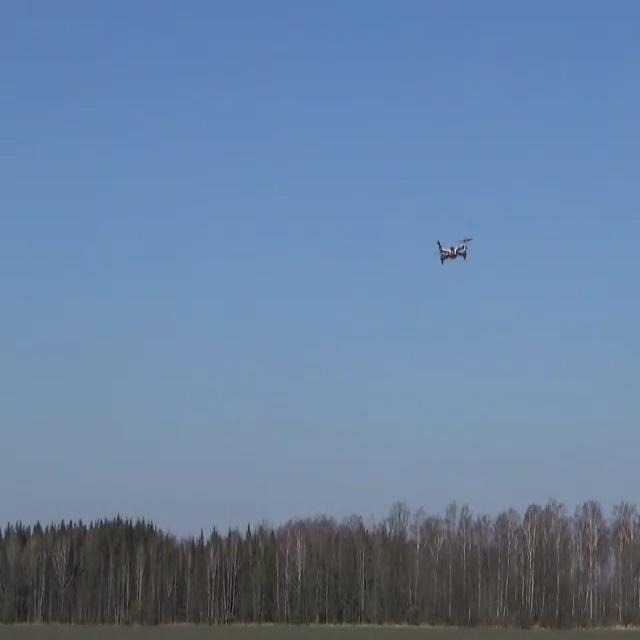drone: (435, 236, 472, 265)
